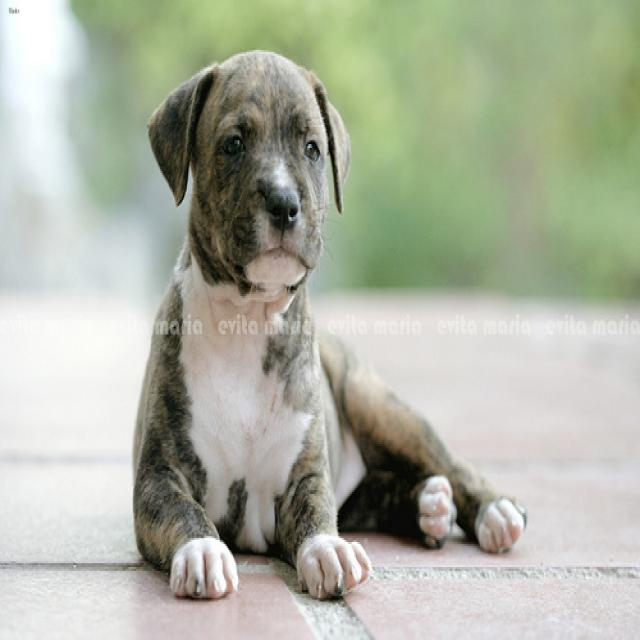dog-staffordshire_bull_terrier: (123, 40, 531, 615)
